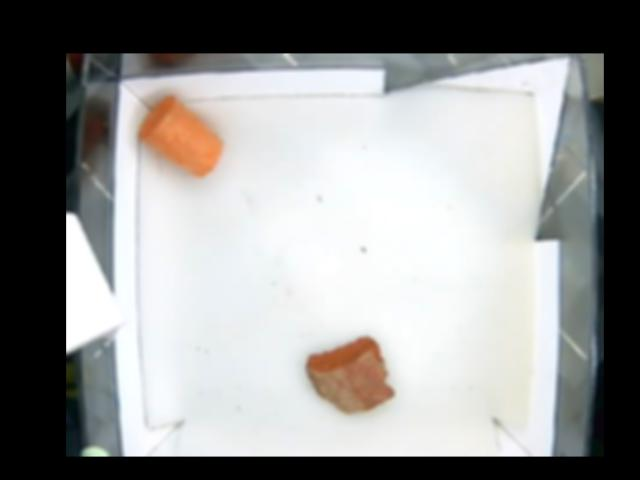Brisk: (306, 336, 397, 416)
Carrot: (139, 93, 224, 179)
